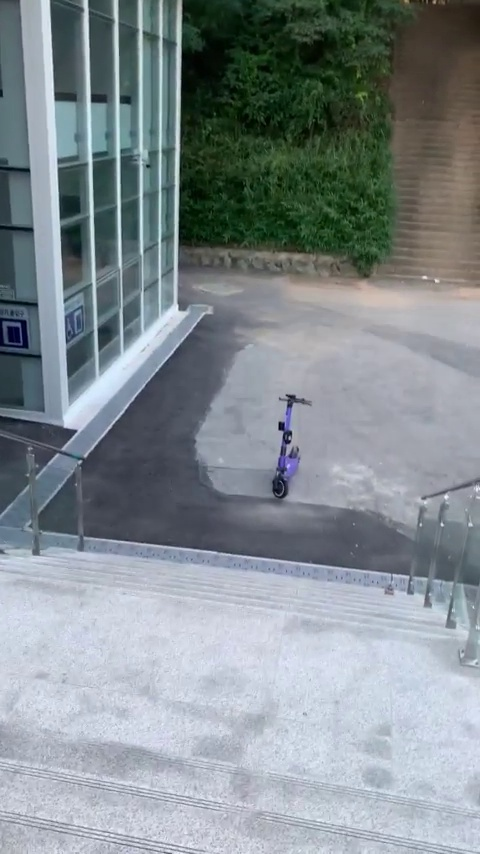beam: (260, 392, 330, 507)
